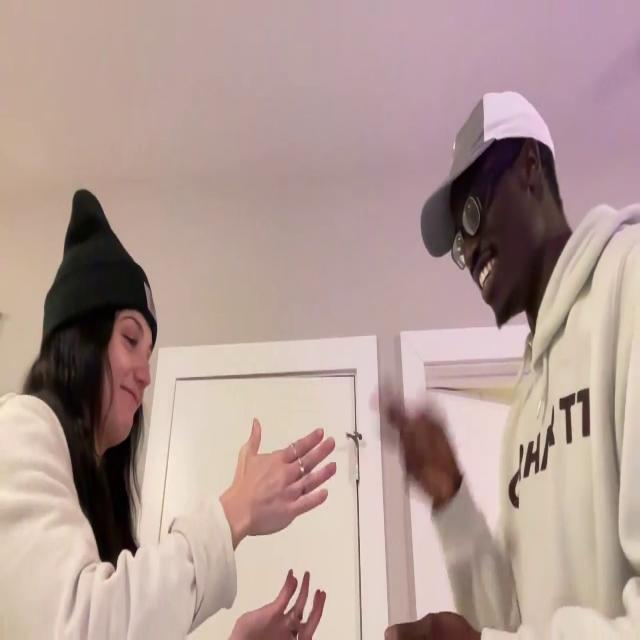Paper: (230, 416, 339, 536)
Scissors: (371, 397, 455, 502)
